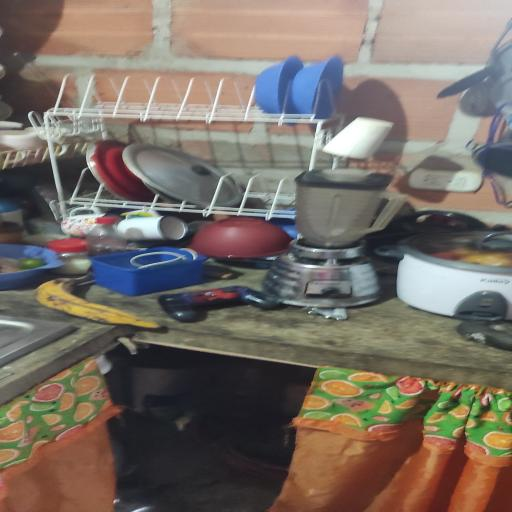ControlPlay4: (159, 286, 279, 323)
